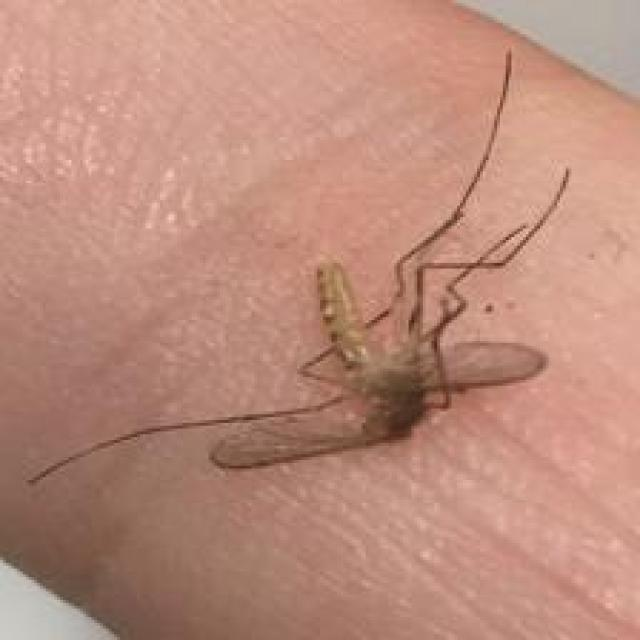Culex: (26, 46, 571, 488)
